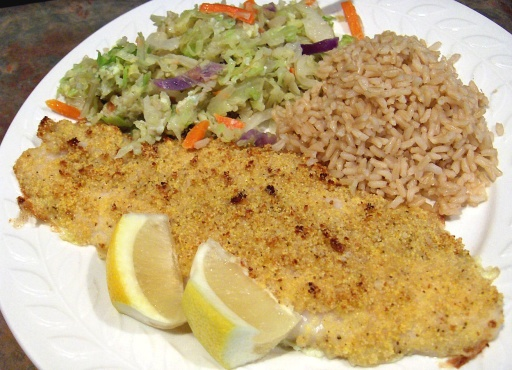background: (7, 0, 403, 214)
